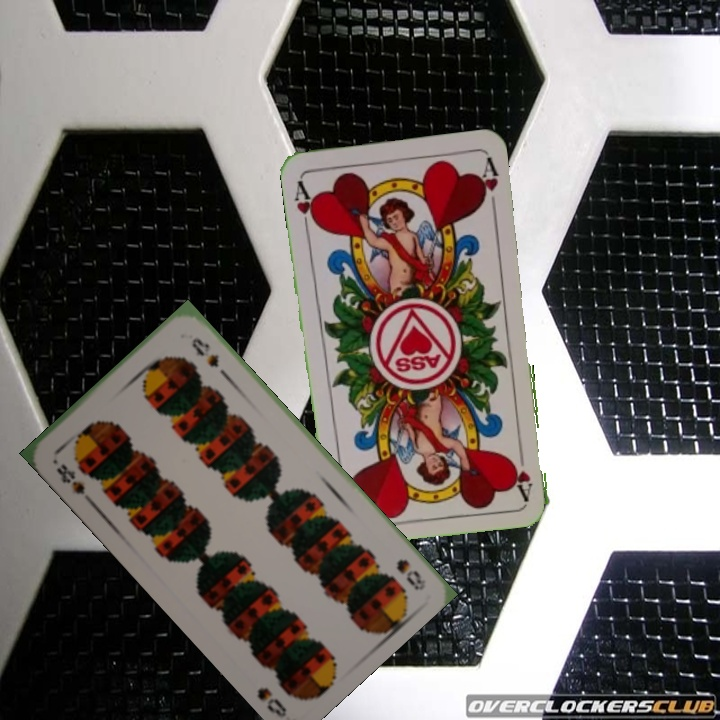HA: (290, 176, 320, 235), (509, 441, 535, 501)
S8: (52, 459, 93, 504), (392, 555, 429, 593)
